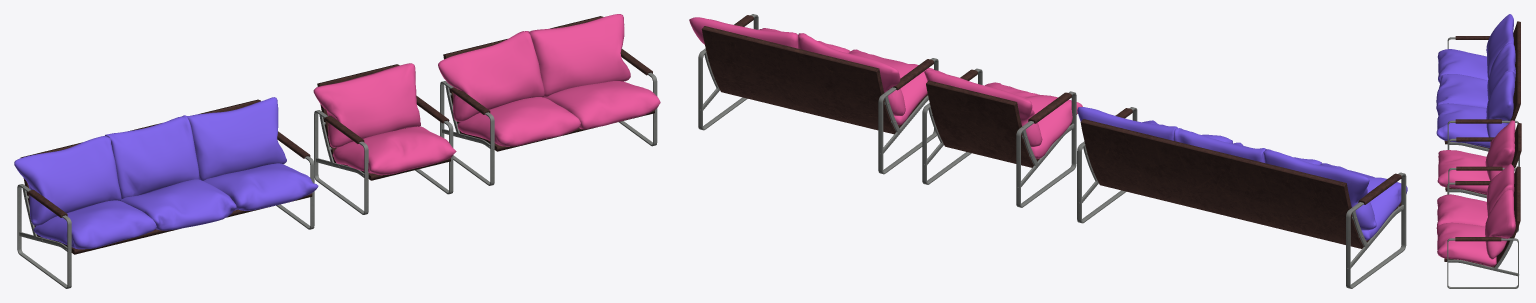
The model's file is sofa_yellow.fbx.
3 renders of one model, left to right at view 1: azimuth 30°, elevation 25°; view 2: azimuth 150°, elevation 25°; view 3: azimuth 270°, elevation 25°, orthographic. The views are drawn at different scales.
Visible parts, largest first — view 1: sofa_yellow_3parts, sofa_yellow_2parts, sofa_yellow_1part; view 2: sofa_yellow_3parts, sofa_yellow_2parts, sofa_yellow_1part; view 3: sofa_yellow_3parts, sofa_yellow_2parts, sofa_yellow_1part.
Boxes of the visible parts, x1,y1,x2,y2 form: sofa_yellow_3parts: [14, 97, 318, 288]; sofa_yellow_2parts: [438, 14, 660, 185]; sofa_yellow_1part: [313, 63, 456, 214]; sofa_yellow_3parts: [1077, 107, 1407, 288]; sofa_yellow_2parts: [689, 14, 938, 174]; sofa_yellow_1part: [922, 68, 1082, 207]; sofa_yellow_3parts: [1436, 14, 1520, 171]; sofa_yellow_2parts: [1436, 164, 1520, 288]; sofa_yellow_1part: [1437, 120, 1521, 198].
Size of the model in its own units: 339 by 55.36 by 58.07.
